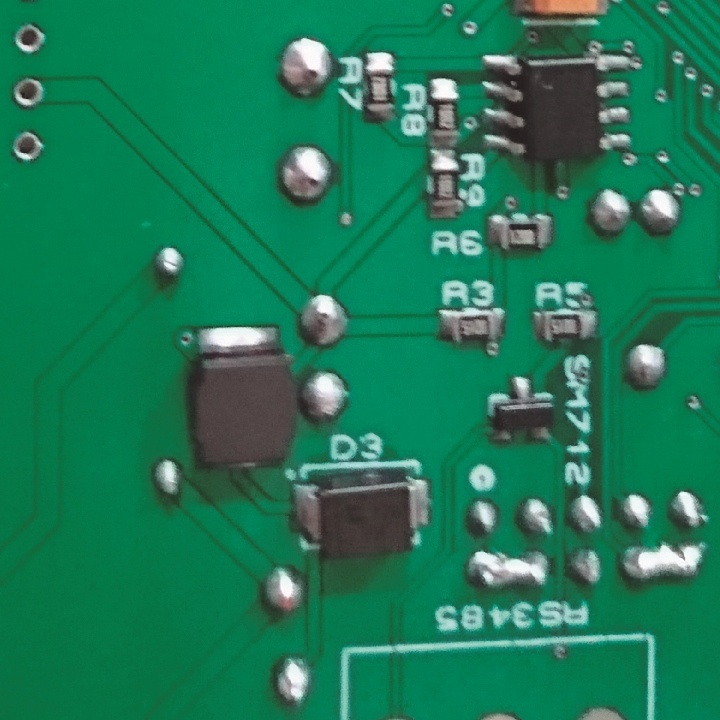F: (9, 127, 48, 170), (10, 76, 47, 112), (12, 22, 50, 57)
P: (467, 546, 550, 597), (620, 540, 705, 588)
